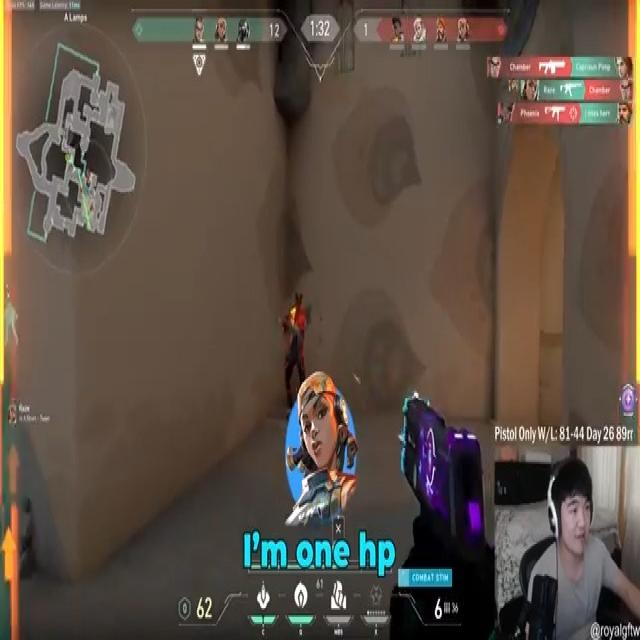enemy: (283, 288, 313, 415)
